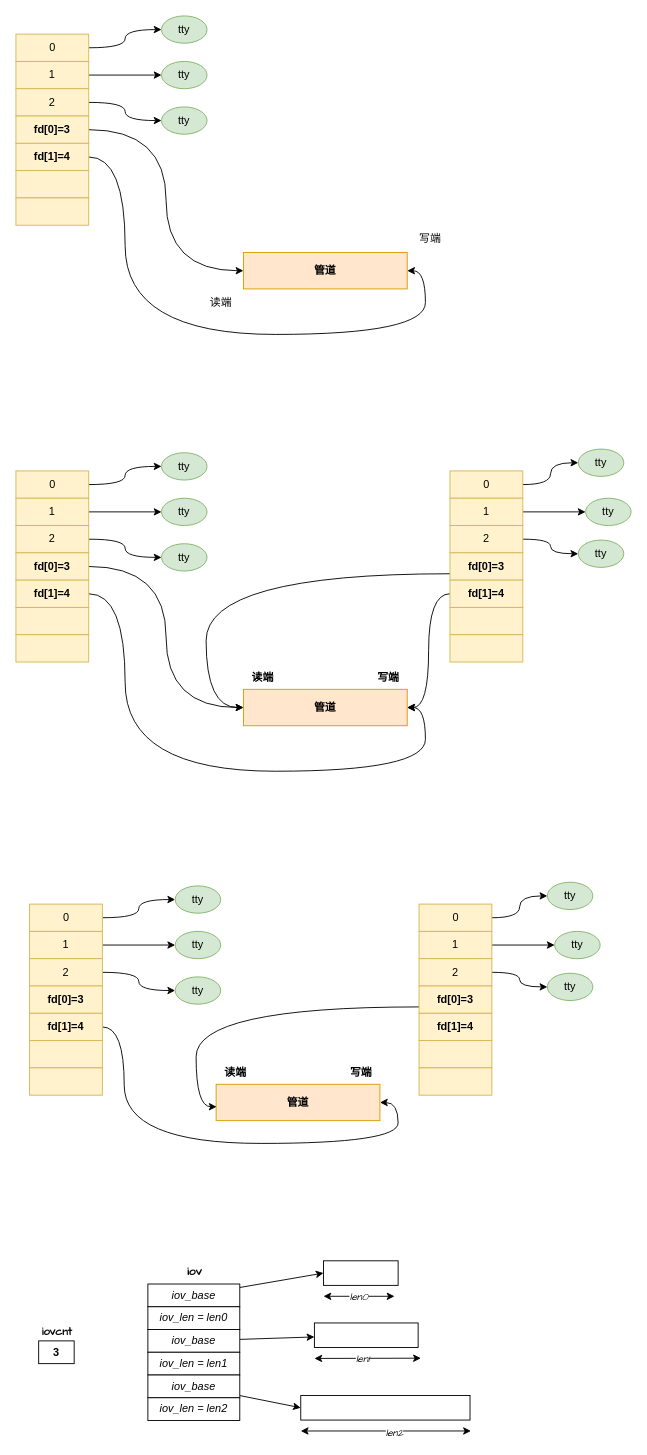
This 647x1455 diagram has some shape labels left out. The shapes that lost their labels are listed below. From the top down, each one's centre as x and y in pixels, then its label:
the point at 360,1272: buffer0
the point at 365,1335: buffer1
the point at 385,1407: buffer2
